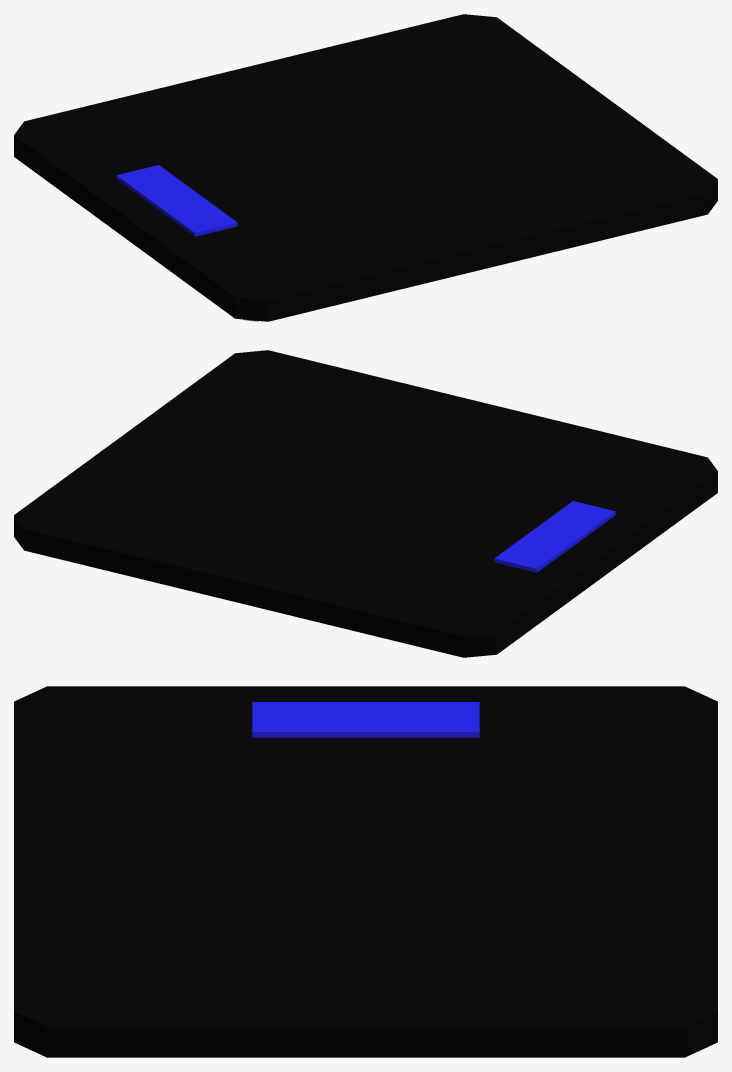
The model's file is WeightScale.004.fbx.
The picture shows the model from 3 angles, top to bottom: view 1: azimuth 30°, elevation 25°; view 2: azimuth 150°, elevation 25°; view 3: azimuth 270°, elevation 25°; orthographic projection. The views are drawn at different scales.
Visible parts, largest first — view 1: WeightScale.004; view 2: WeightScale.004; view 3: WeightScale.004.
Boxes of the visible parts, x1=… form: WeightScale.004: x1=14, y1=14, x2=717, y2=321; WeightScale.004: x1=14, y1=350, x2=717, y2=657; WeightScale.004: x1=14, y1=686, x2=717, y2=1057.
Size of the model in its own units: 32.5 by 2.13 by 28.45.
